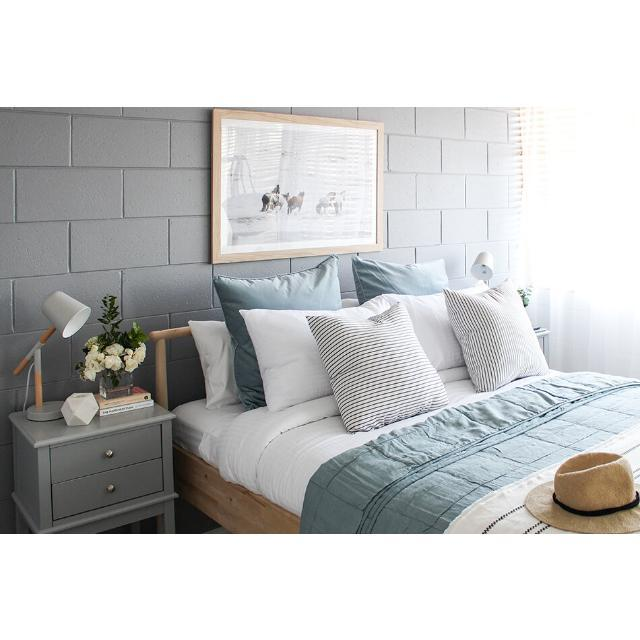pillow: (210, 252, 346, 405), (308, 295, 452, 433), (446, 279, 554, 394), (237, 306, 330, 413), (355, 251, 449, 300)
